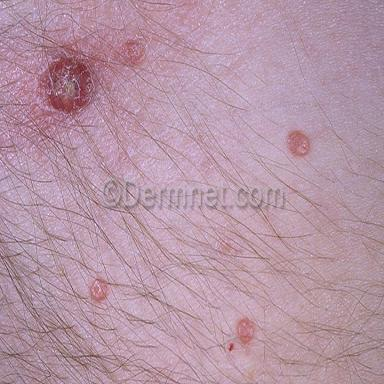Molluscum-Contagiosum: (119, 39, 145, 66), (287, 131, 309, 156), (237, 318, 256, 344), (90, 279, 109, 302)
